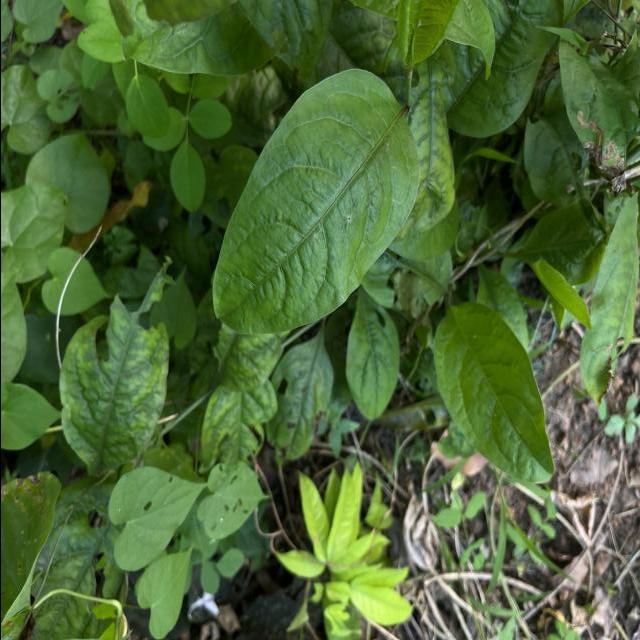Plumbago indica: (204, 59, 426, 343), (429, 299, 557, 498)
